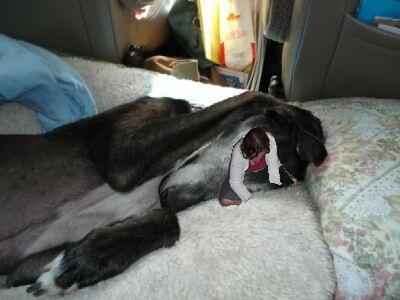tampered: (219, 129, 298, 207)
